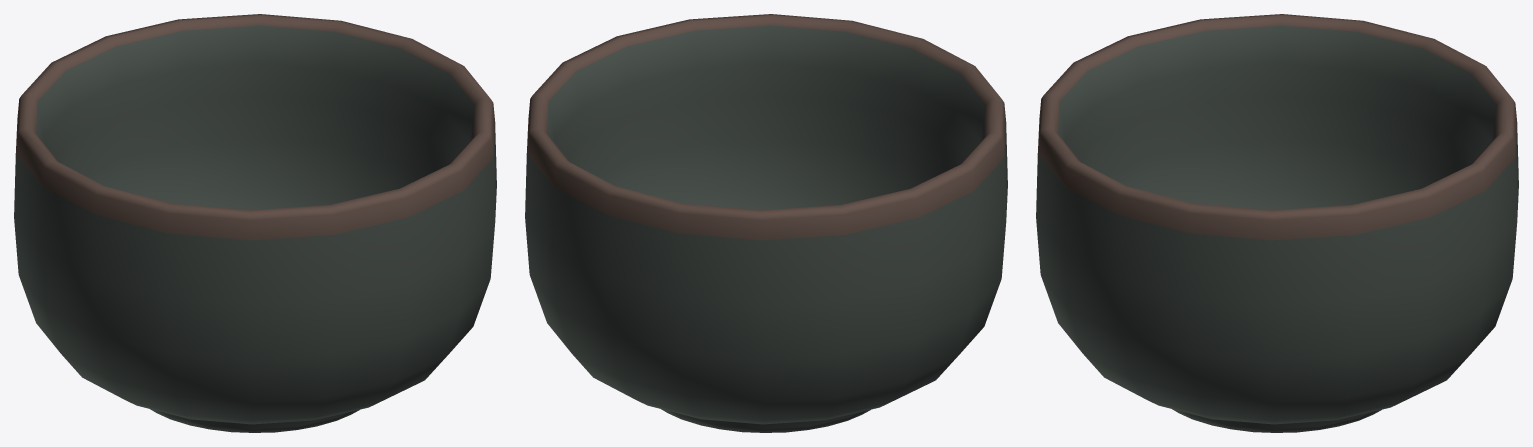
3 renders of one model, left to right at view 1: azimuth 30°, elevation 25°; view 2: azimuth 150°, elevation 25°; view 3: azimuth 270°, elevation 25°, orthographic.
Parts seen in each view (by area): view 1: SY-茶杯; view 2: SY-茶杯; view 3: SY-茶杯.
Boxes of the visible parts, x1,y1,x2,y2 form: SY-茶杯: [14, 14, 496, 432]; SY-茶杯: [525, 14, 1007, 432]; SY-茶杯: [1036, 14, 1518, 432].
Bounding box in the file's own units: 0.0966 × 0.0955 × 0.0582.
